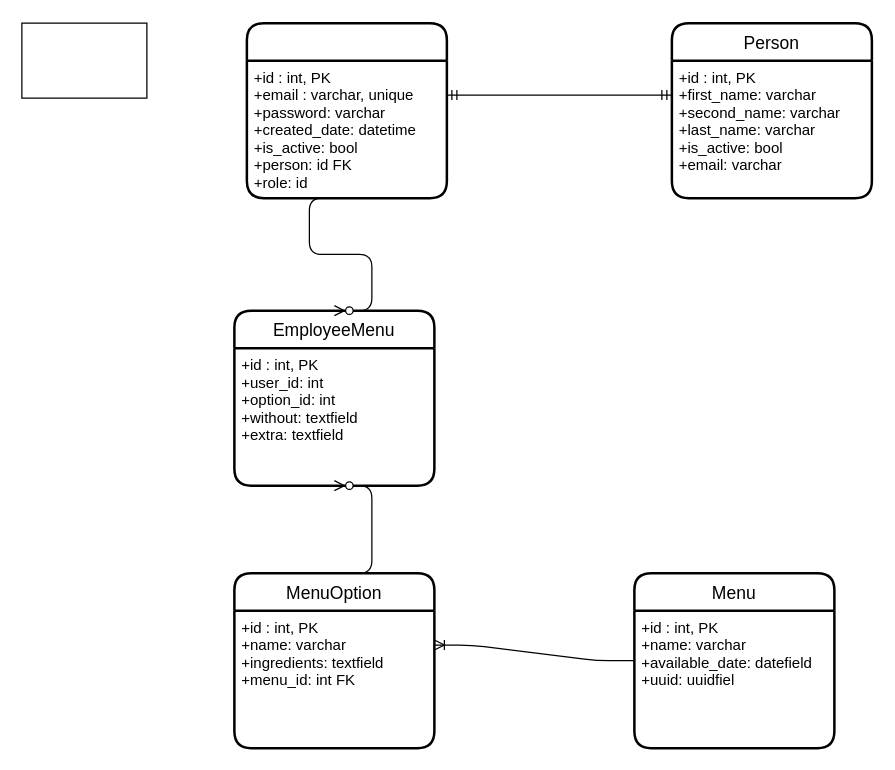
Image size: 895x770. Some labels were removed from this diagram. Here are the shapes that lost their labels. From the top down, the box of each, then its label:
(21, 22, 147, 98): Role 1: Chef 2: Employee
(245, 21, 448, 199): User
